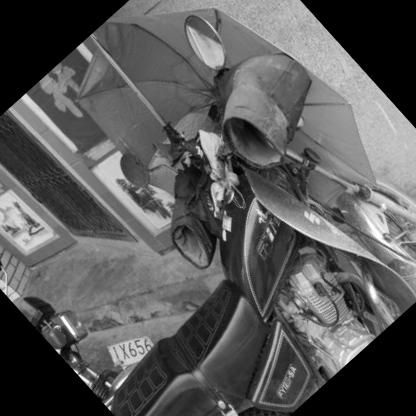moto: (10, 42, 416, 416)
